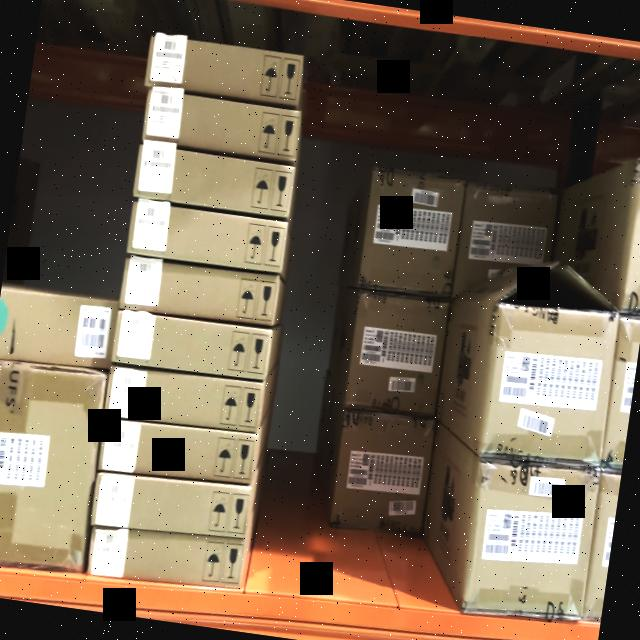box: (0, 365, 113, 577), (477, 302, 619, 468), (462, 460, 598, 622), (357, 168, 465, 306), (134, 138, 298, 223), (330, 412, 438, 536), (453, 180, 561, 304), (346, 299, 451, 420), (114, 305, 274, 384), (91, 465, 253, 543), (146, 32, 306, 110), (142, 84, 301, 161), (87, 522, 250, 594), (126, 200, 288, 272), (104, 362, 264, 432), (119, 255, 280, 324), (97, 418, 256, 486), (0, 286, 115, 375)
